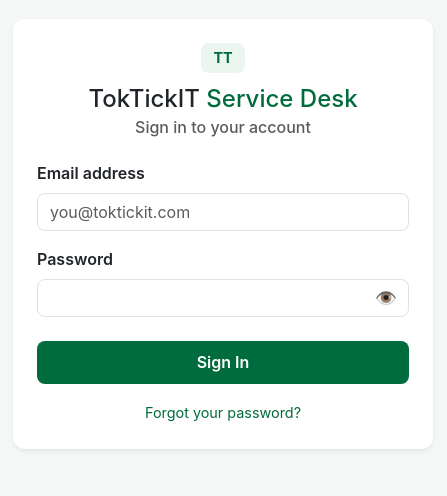
Scenario: shows generic error message on 401
The width and height of the screenshot is (447, 496).
Type "wrong@toktick.dev" into the field labelled "Email address" at x=223, y=212, box 37,193 -> 409,231
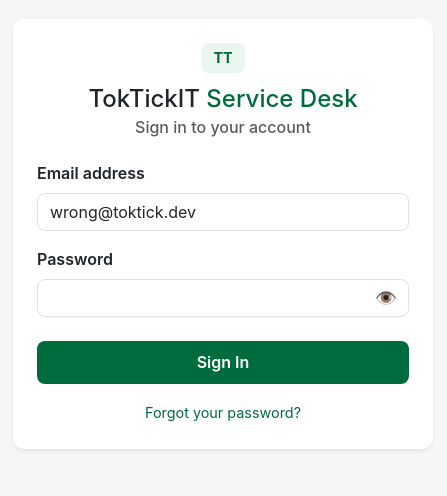
Type "wrongpass" into the password field labelled "Password" at x=223, y=298, box 37,279 -> 409,317
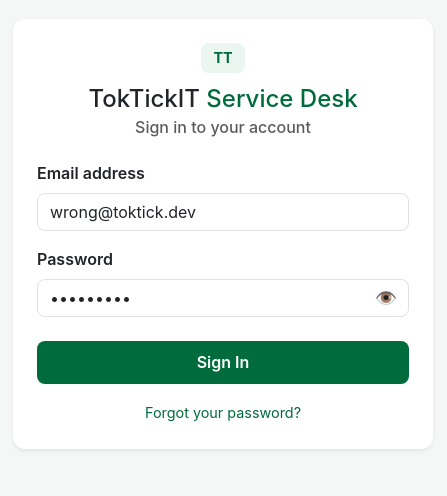
Click the button "Sign In" at x=223, y=362, box 37,341 -> 409,384
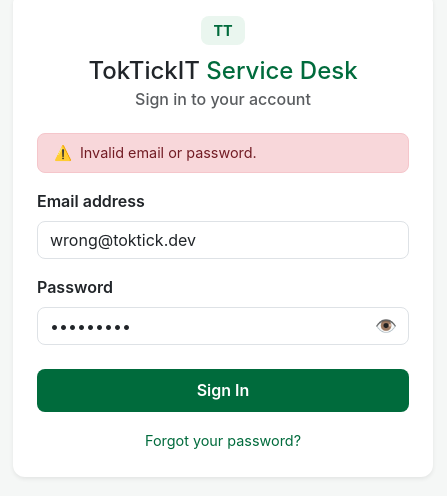
Result: the text "Invalid email or password." is shown at 80,142 -> 257,164
